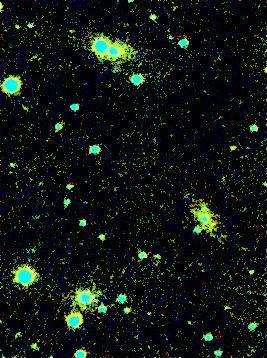star: (0, 6, 30, 36)
